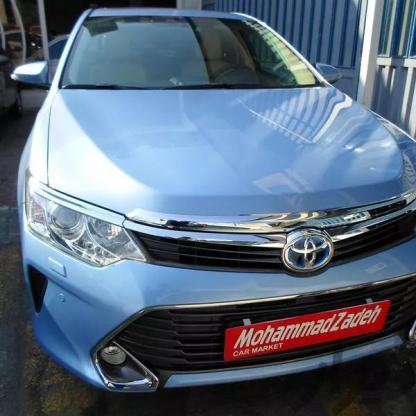Car: (7, 3, 416, 392)
